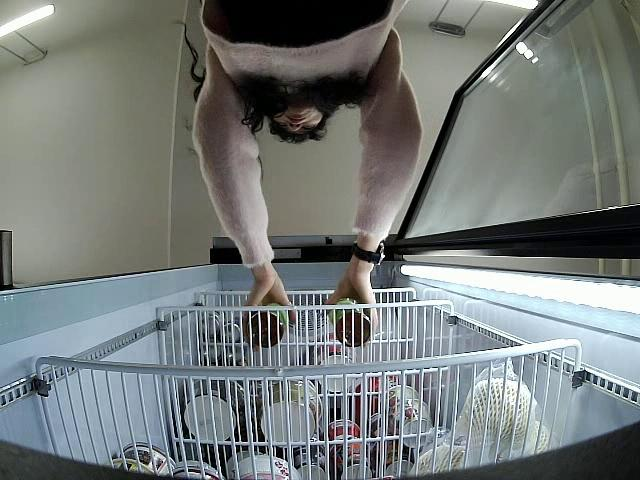00_hand: (242, 277, 297, 352), (327, 270, 379, 349)
19_17cha: (329, 298, 370, 348), (248, 301, 289, 348)
